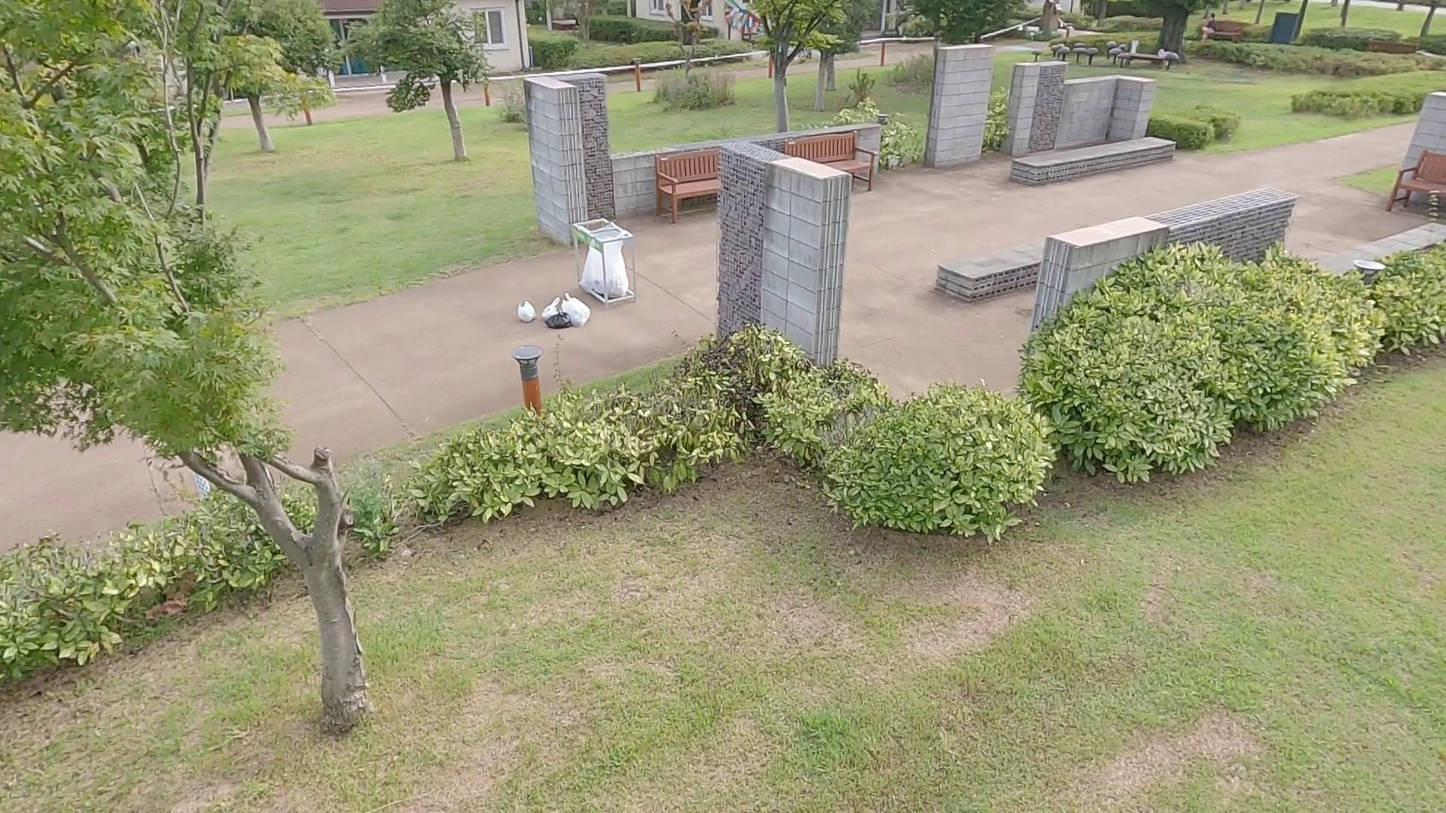trash: (561, 290, 590, 327), (513, 297, 539, 325), (544, 310, 573, 332), (540, 295, 564, 321)
